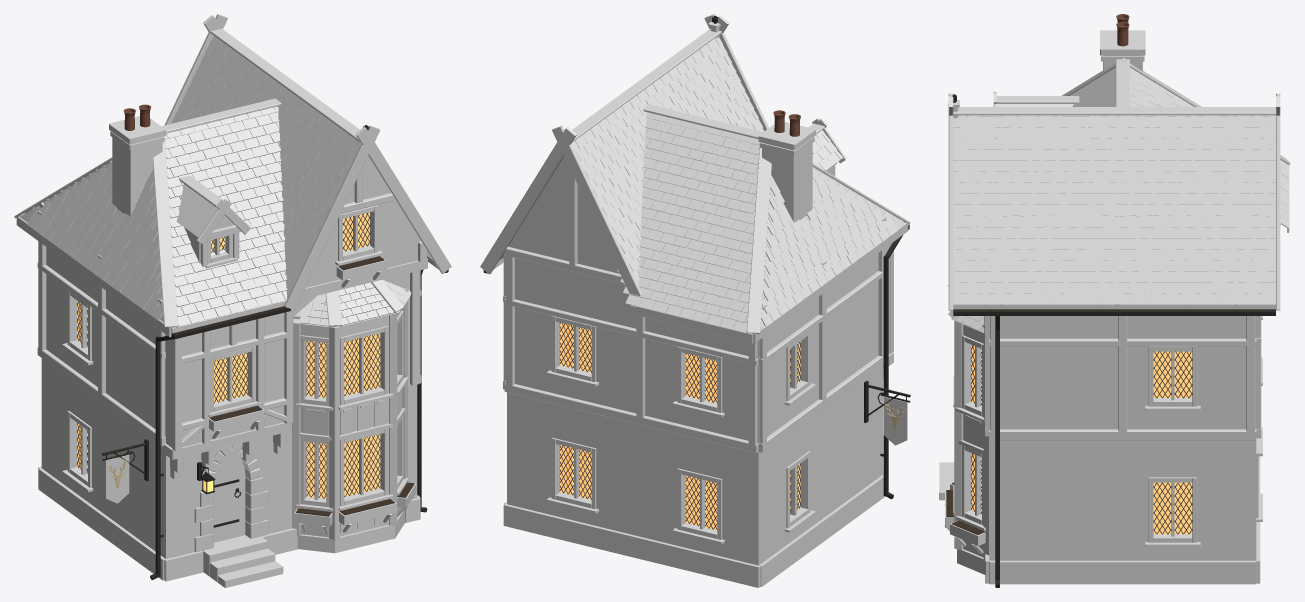
The model's file is SilverbrookTownhouse2.glb.
The picture shows the model from 3 angles, left to right: view 1: azimuth 30°, elevation 25°; view 2: azimuth 150°, elevation 25°; view 3: azimuth 270°, elevation 25°; orthographic projection. The views are drawn at different scales.
Visible parts, largest first — view 1: SM_SBTownhouse2_Roof, SM_SBTownhouse2_Timber, SM_SBTownhouse2_Masonry, SM_SBTownhouse2_Plaster, SM_SBTownhouse2_Details, SM_SBTownhouse2_Door1; view 2: SM_SBTownhouse2_Roof, SM_SBTownhouse2_Masonry, SM_SBTownhouse2_Timber, SM_SBTownhouse2_Plaster, SM_SBTownhouse2_Details; view 3: SM_SBTownhouse2_Roof, SM_SBTownhouse2_Masonry, SM_SBTownhouse2_Timber, SM_SBTownhouse2_Plaster, SM_SBTownhouse2_Details.
Boxes of the visible parts, <box> form: SM_SBTownhouse2_Roof: <box>14,28,432,327</box>; SM_SBTownhouse2_Timber: <box>16,14,451,540</box>; SM_SBTownhouse2_Masonry: <box>38,116,420,587</box>; SM_SBTownhouse2_Plaster: <box>42,156,420,447</box>; SM_SBTownhouse2_Details: <box>77,104,448,579</box>; SM_SBTownhouse2_Door1: <box>213,451,245,542</box>; SM_SBTownhouse2_Roof: <box>499,28,910,333</box>; SM_SBTownhouse2_Masonry: <box>503,122,885,587</box>; SM_SBTownhouse2_Timber: <box>480,14,908,544</box>; SM_SBTownhouse2_Plaster: <box>508,157,890,443</box>; SM_SBTownhouse2_Details: <box>483,15,910,530</box>; SM_SBTownhouse2_Roof: <box>948,58,1290,332</box>; SM_SBTownhouse2_Masonry: <box>939,30,1260,584</box>; SM_SBTownhouse2_Timber: <box>944,91,1289,560</box>; SM_SBTownhouse2_Plaster: <box>989,316,1256,429</box>; SM_SBTownhouse2_Details: <box>946,14,1275,587</box>.
Size of the model in its own units: 6.95 by 8.97 by 6.32.
